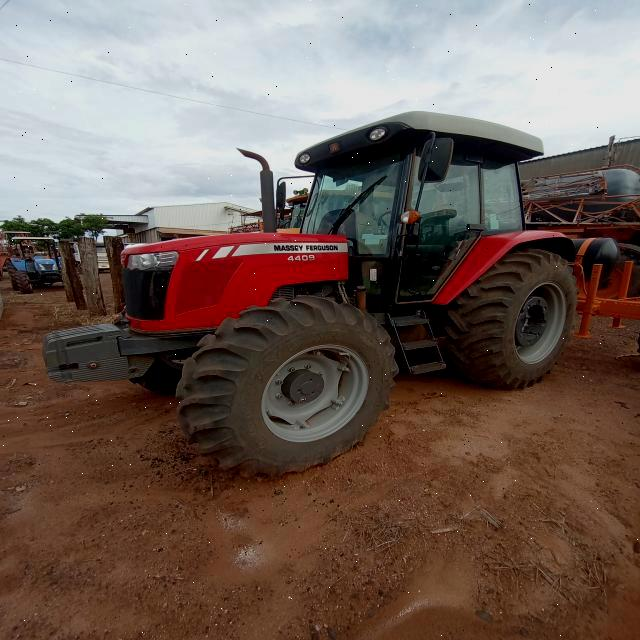Tratores - v5 YOLO V8L 2024-11-13: (46, 106, 575, 476), (2, 236, 70, 298)
